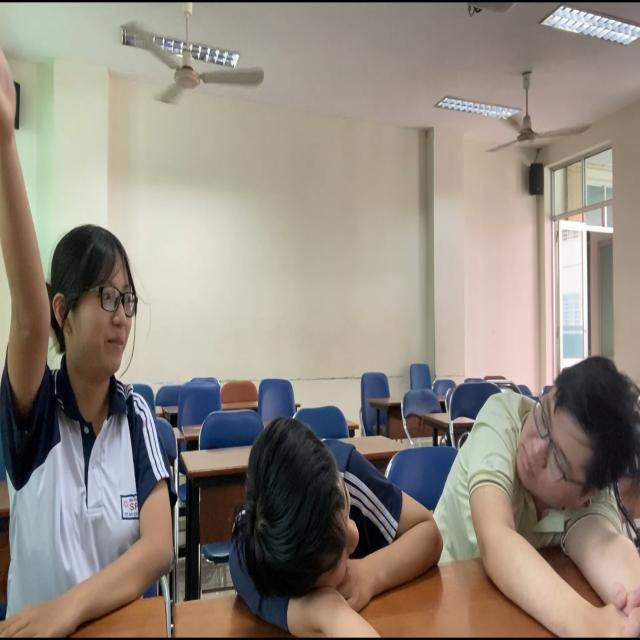raise_hand: (1, 43, 178, 640)
sleep: (219, 408, 448, 640)
